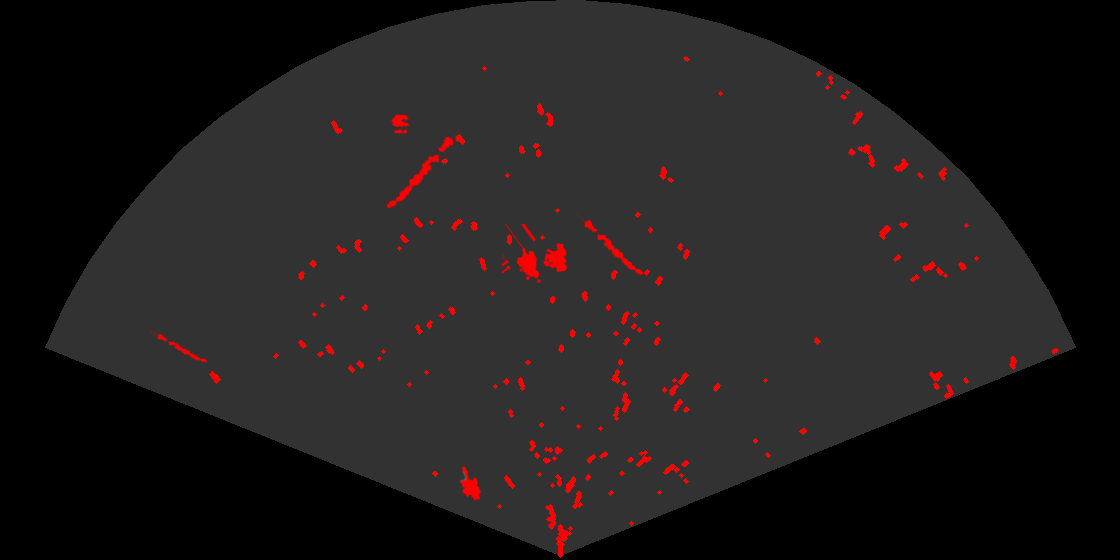AUV: (458, 464, 483, 503)
ball: (390, 113, 411, 135)
cage: (502, 224, 569, 285)
chain: (385, 129, 462, 210), (574, 213, 645, 277), (150, 328, 209, 365)
